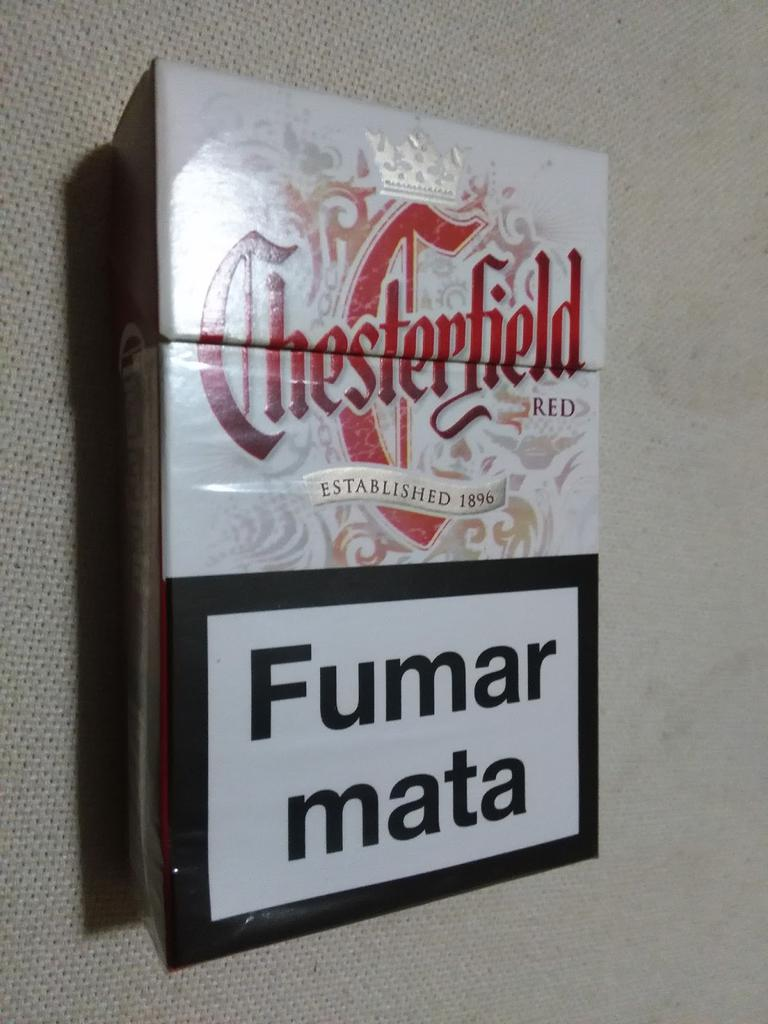chesterfield_red: (165, 133, 602, 862)
